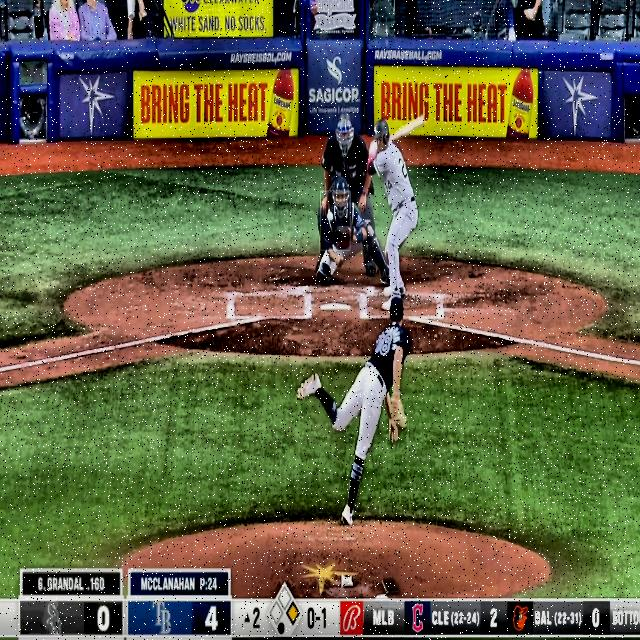baseball: (327, 211, 333, 222)
